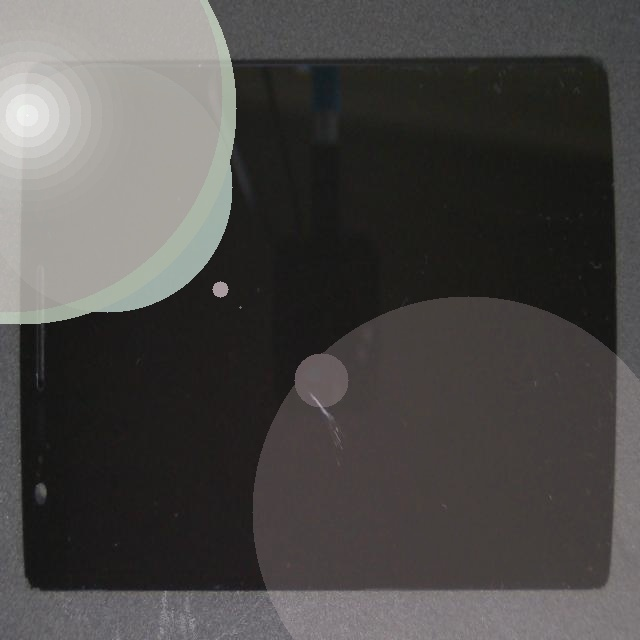scratch: (202, 194, 501, 573)
